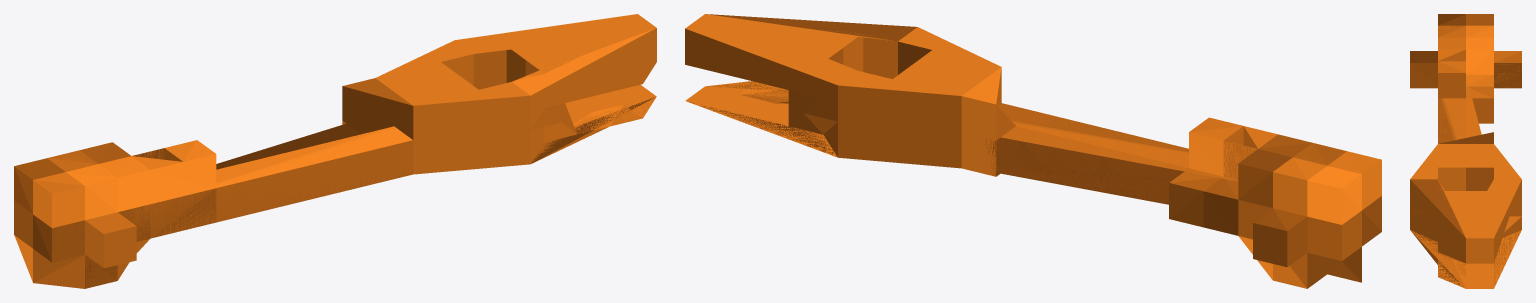
Rendered from HR_Knee.obj.
3 views of the same model, side by side, from view 1: azimuth 30°, elevation 25°; view 2: azimuth 150°, elevation 25°; view 3: azimuth 270°, elevation 25° (orthographic). The views are drawn at different scales.
Visible parts, largest first — view 1: obj1; view 2: obj1; view 3: obj1.
Boxes of the visible parts, x1=… form: obj1: x1=14, y1=14, x2=656, y2=288; obj1: x1=685, y1=14, x2=1381, y2=288; obj1: x1=1410, y1=14, x2=1521, y2=288.
Bounding box in the file's own units: 0.19 × 0.03 × 0.04.
